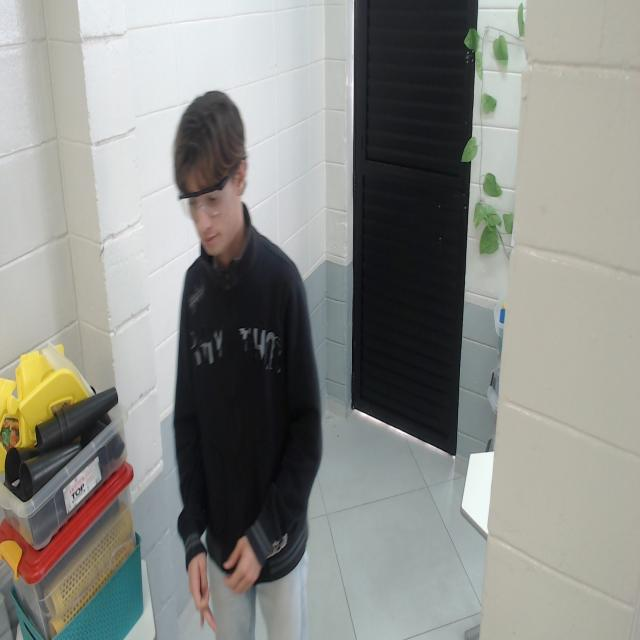oculos-epi: (178, 157, 247, 222)
